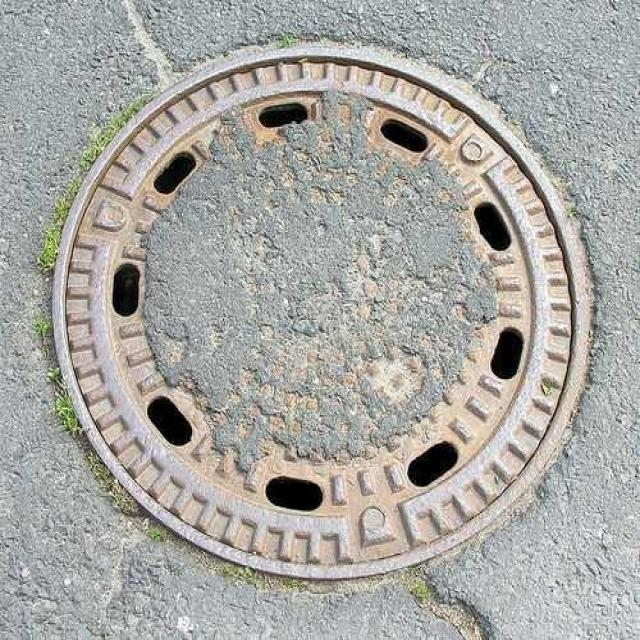manhole: (53, 46, 591, 578)
